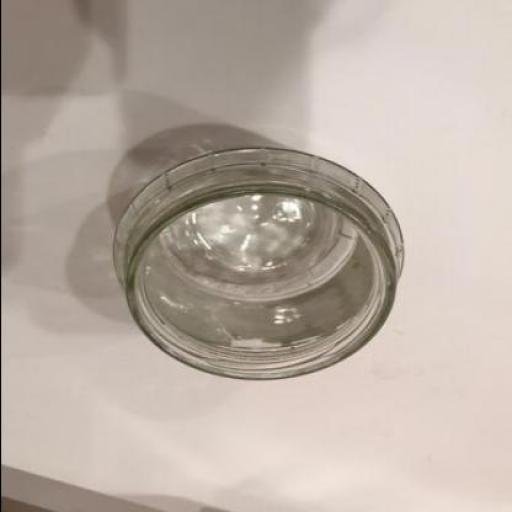glass: (116, 149, 404, 383)
